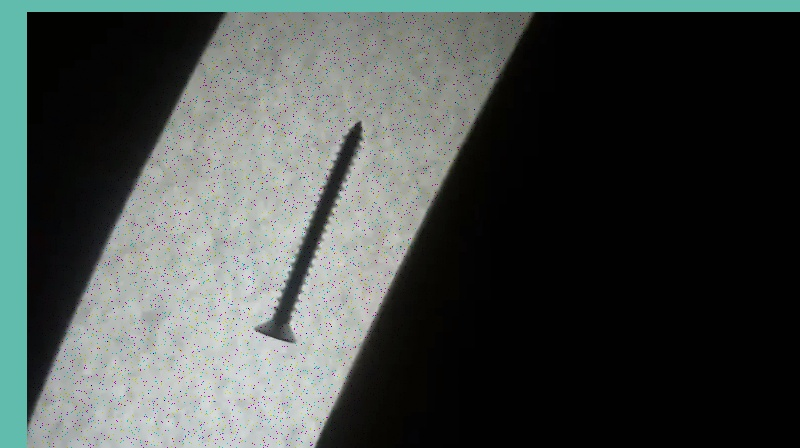S002: (248, 119, 365, 350)
